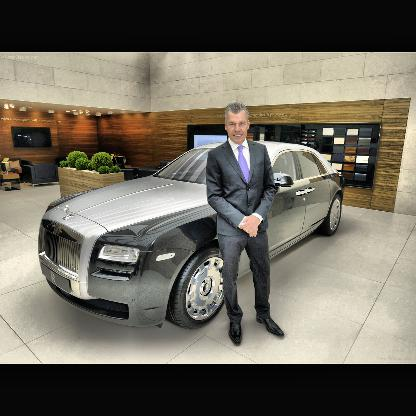Rolls-Royce Ghost Sedan 2012: (40, 141, 342, 329)
